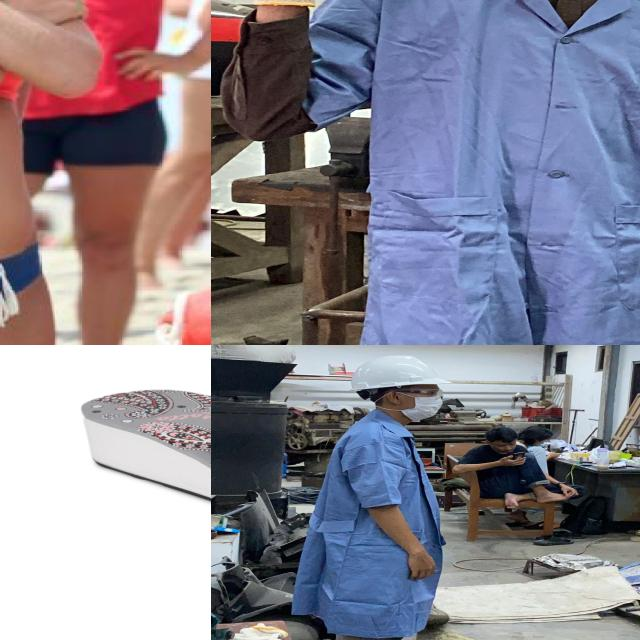Sandals: (74, 386, 211, 556)
face_mask: (394, 384, 448, 425)
face_nomask: (492, 439, 518, 454)
glasses: (382, 387, 445, 400)
hand_noglove: (114, 43, 183, 84), (17, 0, 94, 26), (397, 546, 437, 584), (554, 482, 580, 498), (498, 454, 529, 467)
head_helmet: (348, 352, 442, 391)
head_nohelmet: (484, 426, 518, 444)
person: (211, 0, 640, 345), (0, 0, 211, 345), (283, 348, 461, 640), (0, 0, 60, 345), (445, 424, 578, 513)
